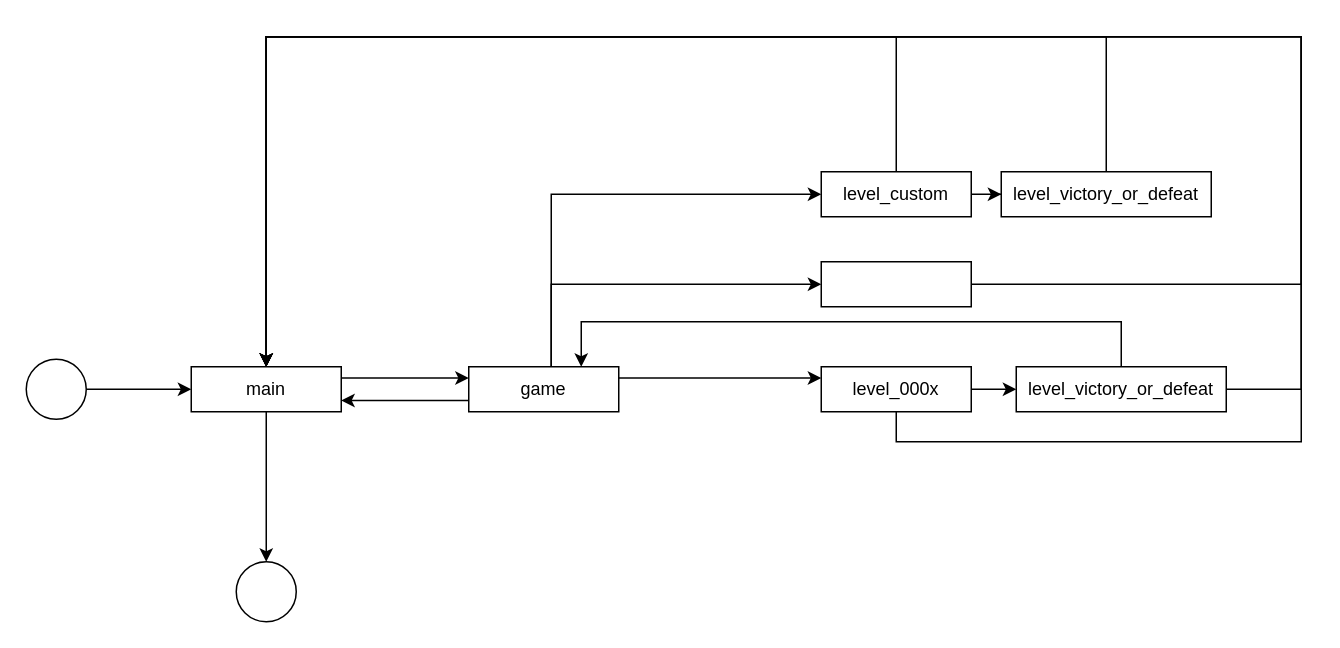
The diagram is 1340 pixels wide and 648 high, and some of its shapes have lost their labels. The shapes that lost their labels are listed below. From the top down, each one's centre as x and y in pixels, then its label:
(895,283): game_victory
(55,388): entry
(265,591): exit
